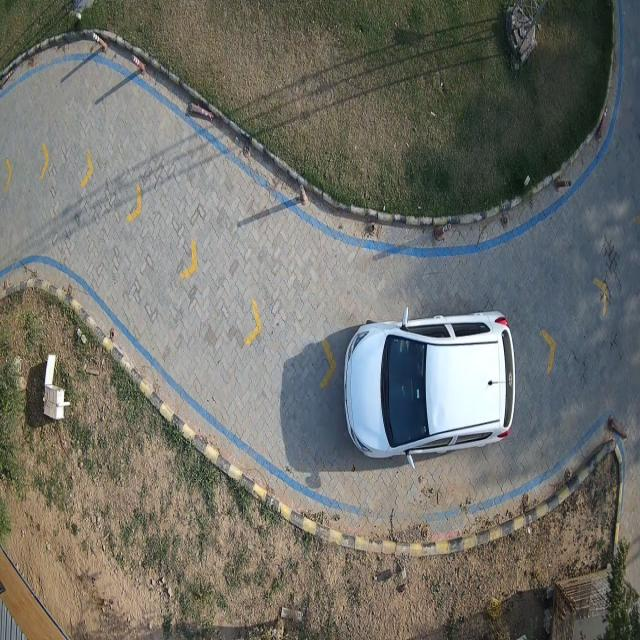car: (342, 313, 518, 464)
